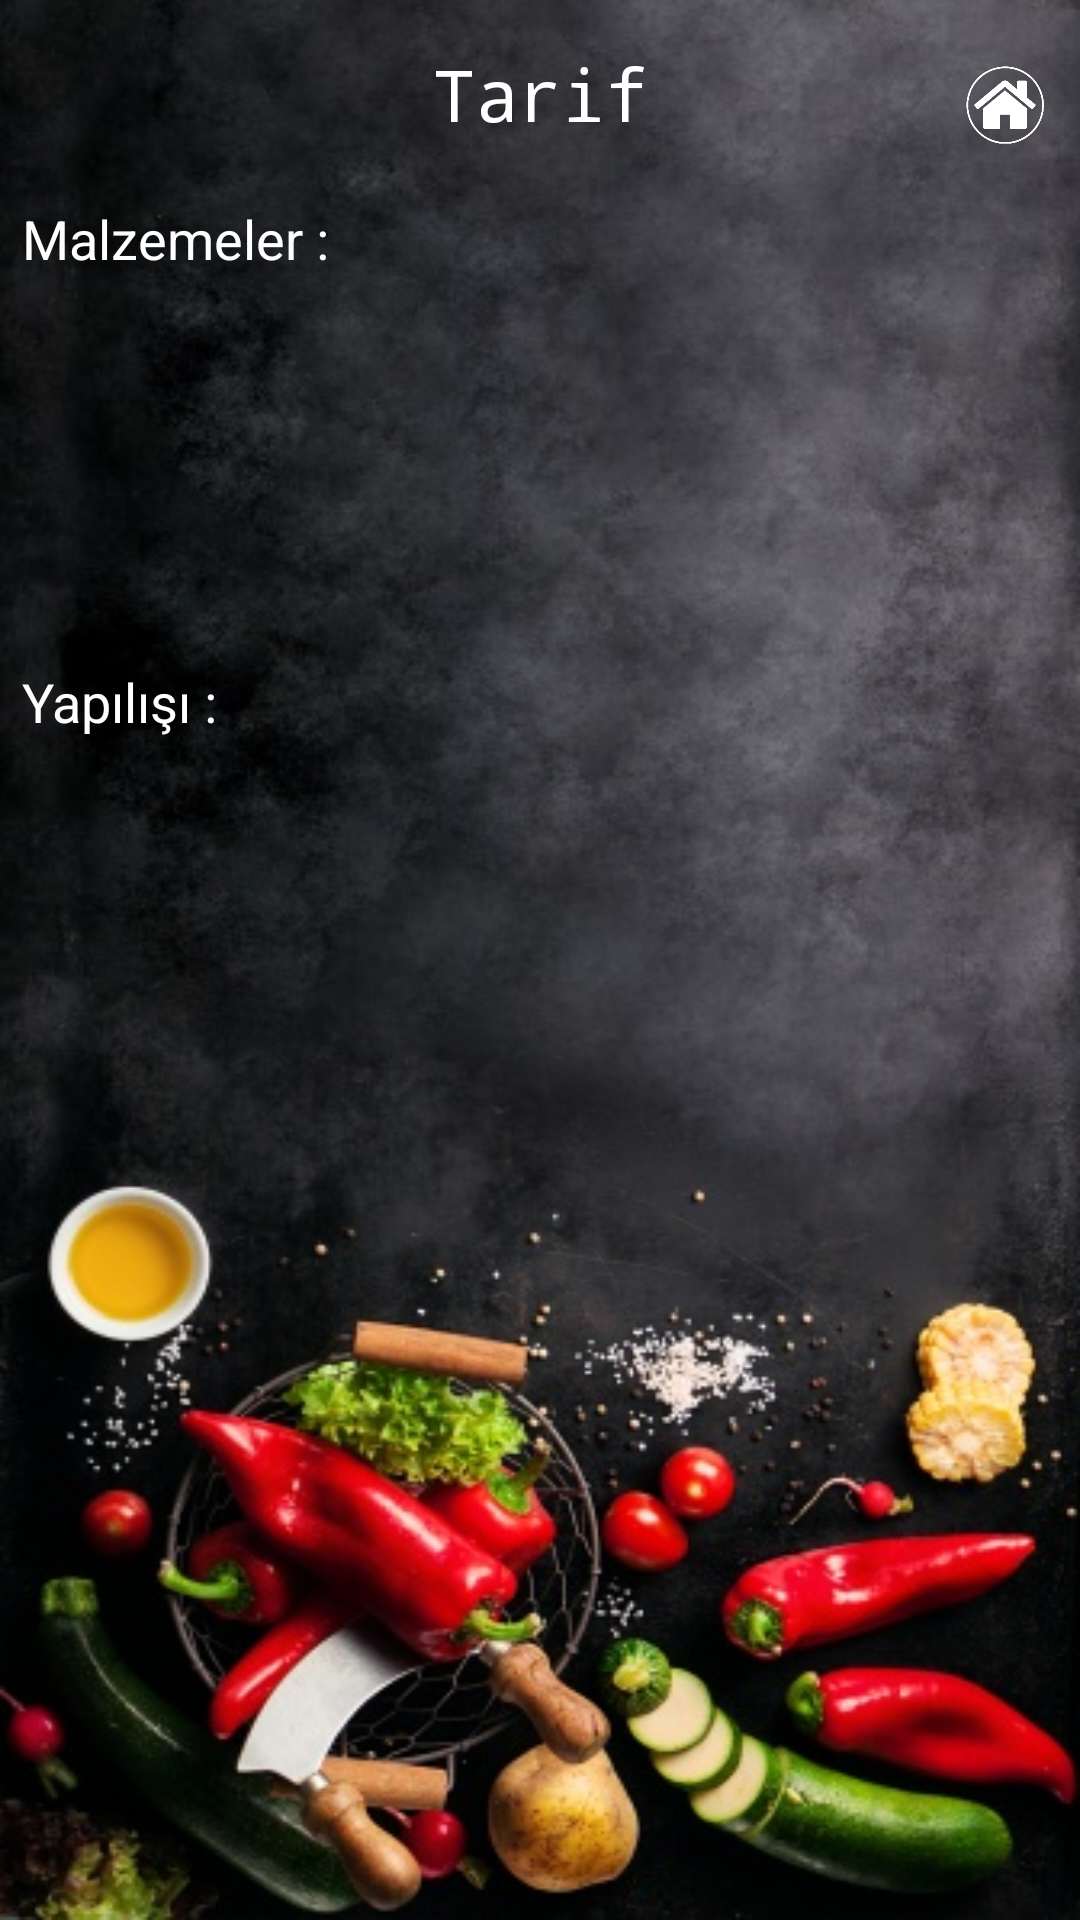

Point at icon controls on the screen. Image size 1080 × 1920, points as (x,y).
home: (1005,105)
